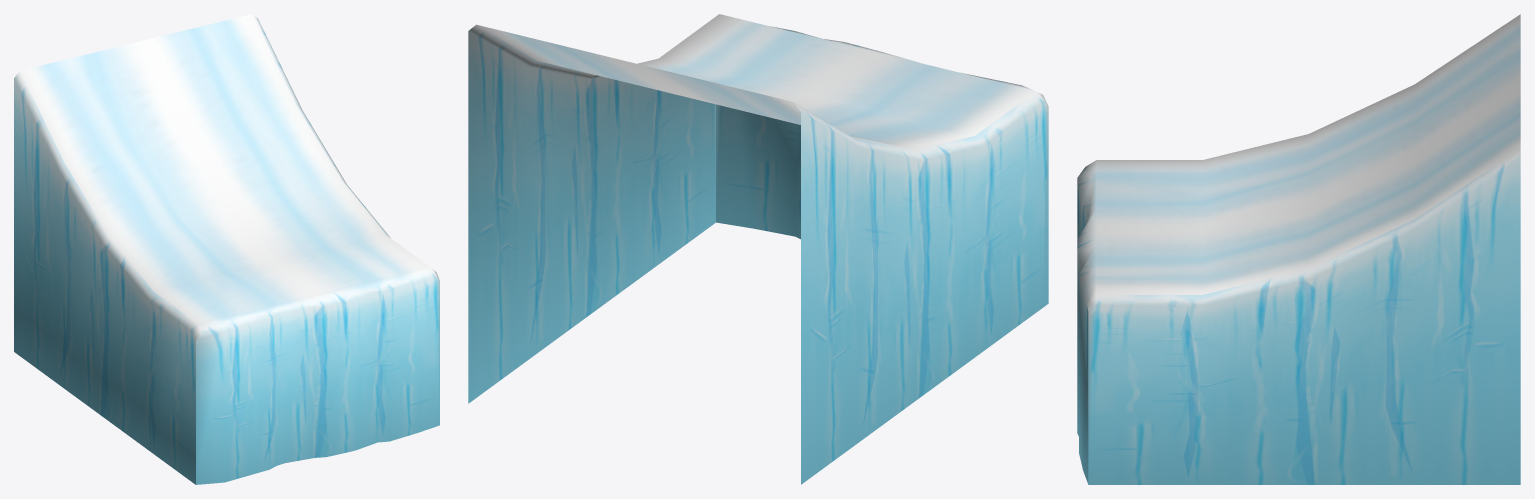
Rendered from High_Crag_End.FBX.
3 views of the same model, side by side, from view 1: azimuth 30°, elevation 25°; view 2: azimuth 150°, elevation 25°; view 3: azimuth 270°, elevation 25° (orthographic). The views are drawn at different scales.
Visible parts, largest first — view 1: Object304; view 2: Object304; view 3: Object304.
Boxes of the visible parts, <box> form: Object304: <box>14,14,439,484</box>; Object304: <box>468,14,1048,484</box>; Object304: <box>1077,14,1520,484</box>.
Size of the model in its own units: 632 by 692 by 837.
